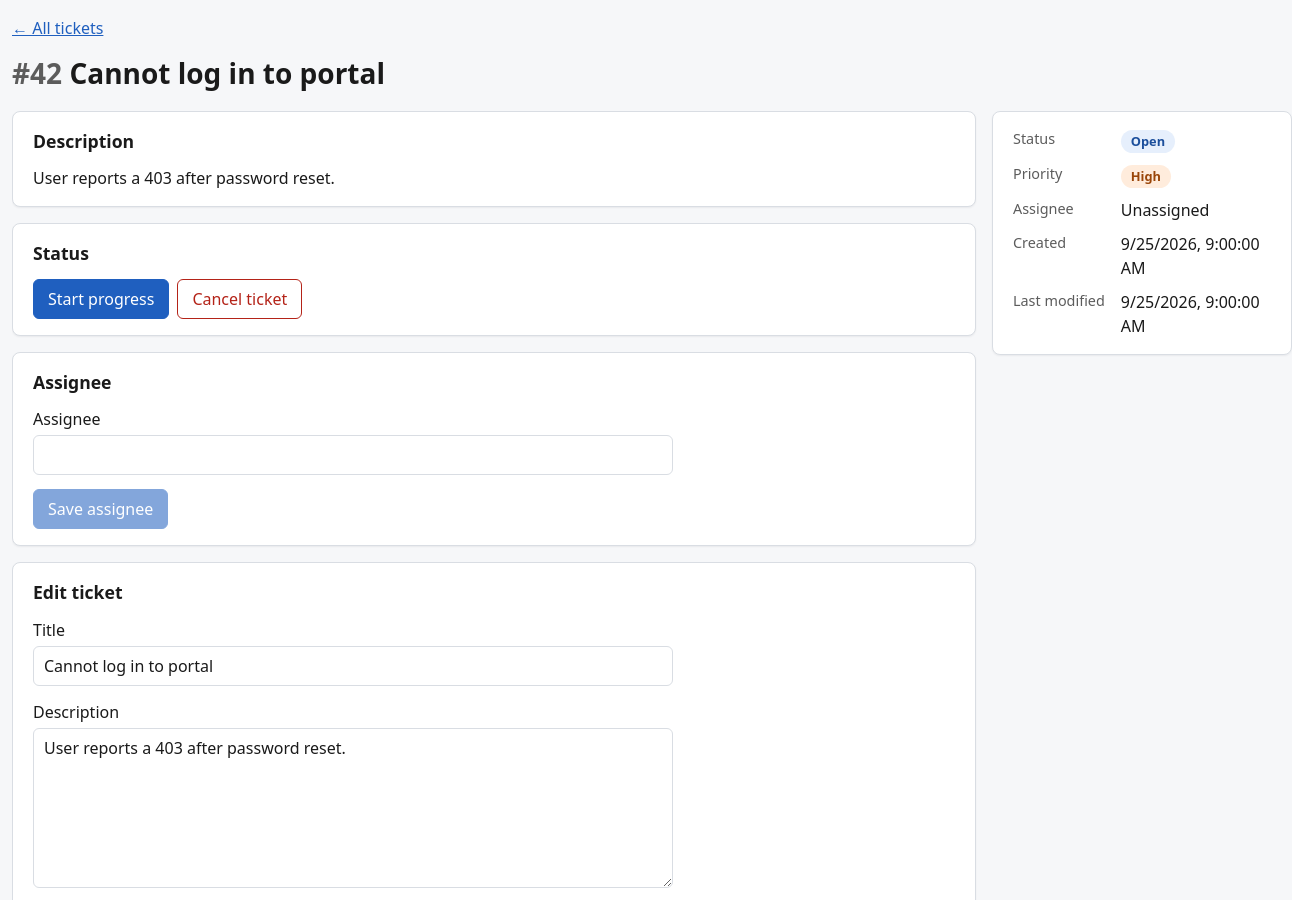
Test: status actions (REQ-11/12, TS-FE-07/08) › shows the reason for a rejected transition and reloads the ticket
What coordinates should you click on to do the following:
click the button "Start progress"
I would click on:
 (101, 299)
Its box is [33,279,169,319].
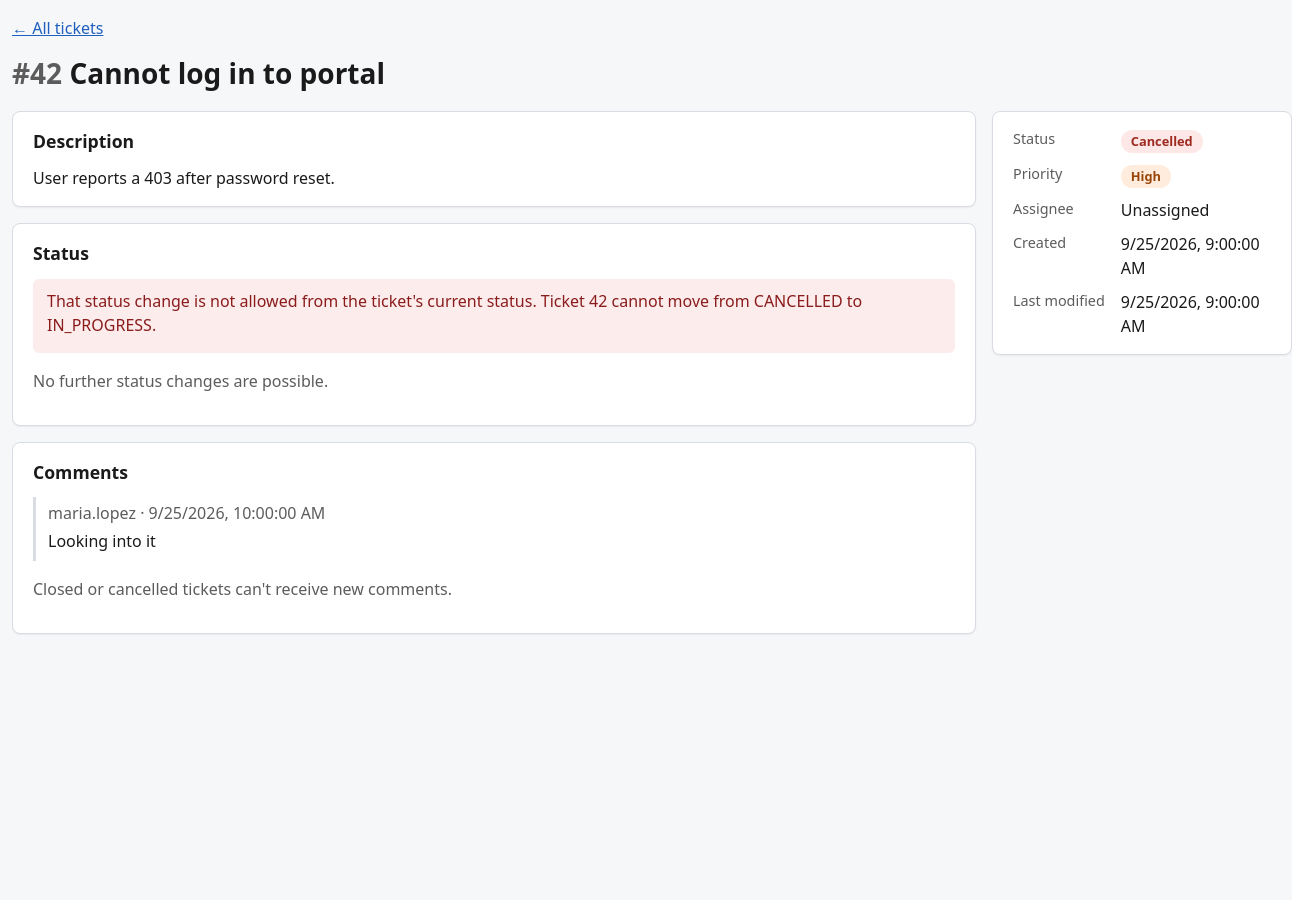
Check: the message shows "Ticket 42 cannot move from CANCELLED to IN_PROGRESS.", box [47,290,862,336]
Check: the text "No further status changes are possible." is shown, box [33,370,328,392]
